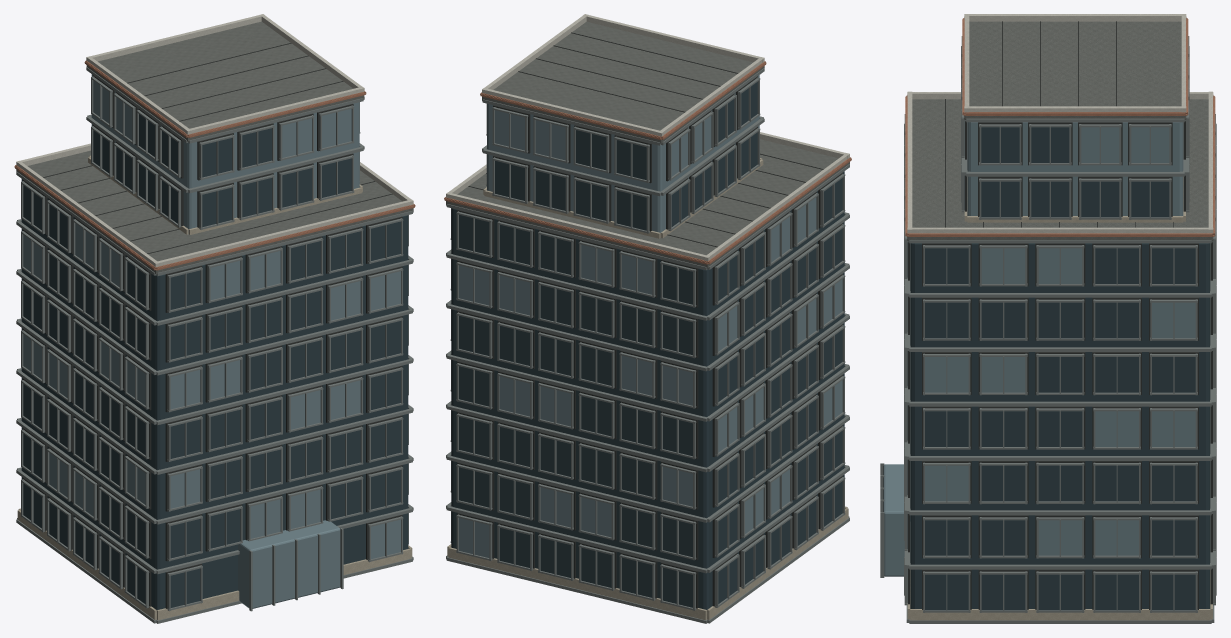
The model's file is OFF_MID_2x2_002.glb.
3 views of the same model, side by side, from view 1: azimuth 30°, elevation 25°; view 2: azimuth 150°, elevation 25°; view 3: azimuth 270°, elevation 25° (orthographic). The views are drawn at different scales.
Visible parts, largest first — view 1: OFF_MID_2x2_002_Visual; view 2: OFF_MID_2x2_002_Visual; view 3: OFF_MID_2x2_002_Visual.
Part boxes in pixels (x1,y1,x2,y2): OFF_MID_2x2_002_Visual: (14,14,415,623); OFF_MID_2x2_002_Visual: (444,14,851,623); OFF_MID_2x2_002_Visual: (880,14,1216,623).
Size of what is drawn, in the model's own units: 3.33 by 5.55 by 3.37.
8 materials, 4 textured.
